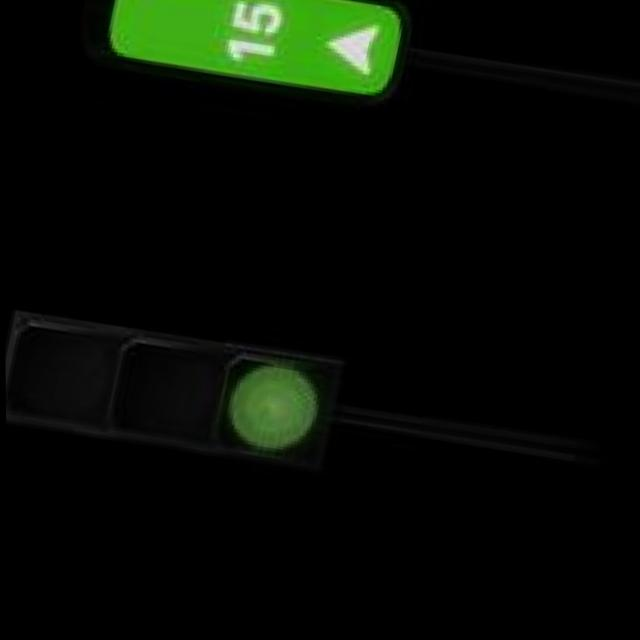green_light: (198, 309, 356, 496)
